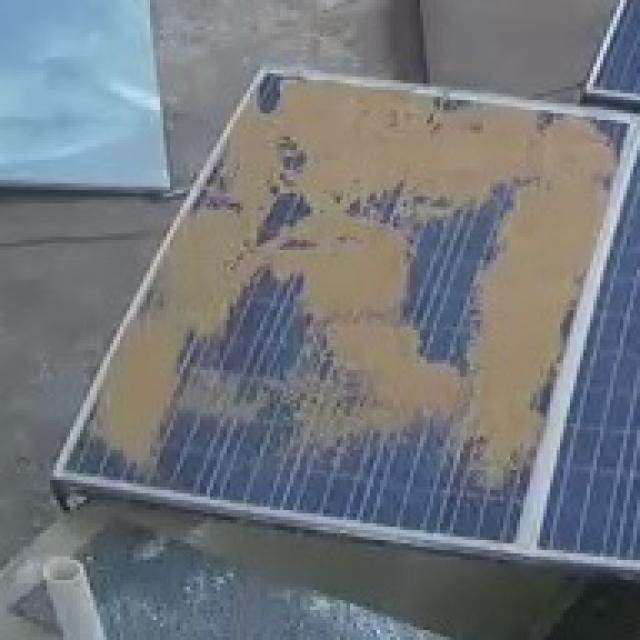Anomaly Solar Panel: (52, 66, 636, 549)
Surface Contaminant: (229, 108, 621, 197), (474, 205, 602, 438), (282, 202, 410, 319), (296, 365, 468, 429), (162, 205, 256, 319), (112, 325, 185, 451), (325, 319, 434, 365), (277, 75, 435, 106), (198, 363, 270, 424)
